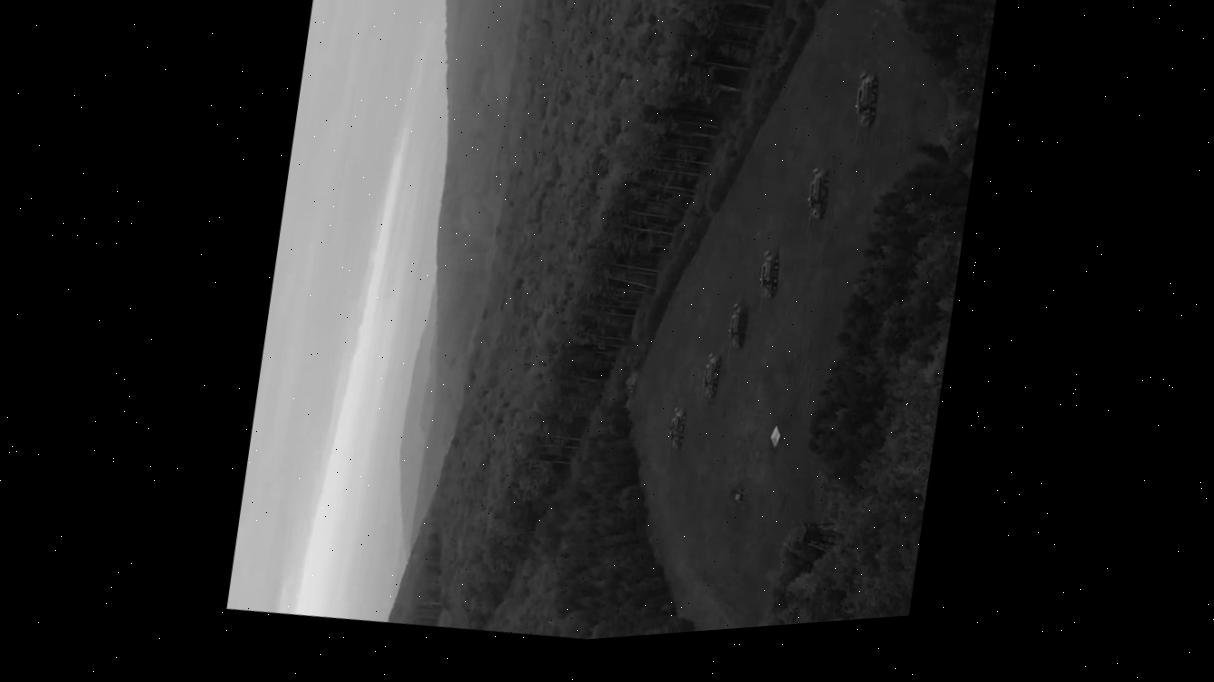sau: (847, 67, 883, 146), (801, 163, 833, 236), (753, 247, 783, 315), (722, 299, 750, 364), (697, 350, 722, 413), (663, 404, 688, 461)
